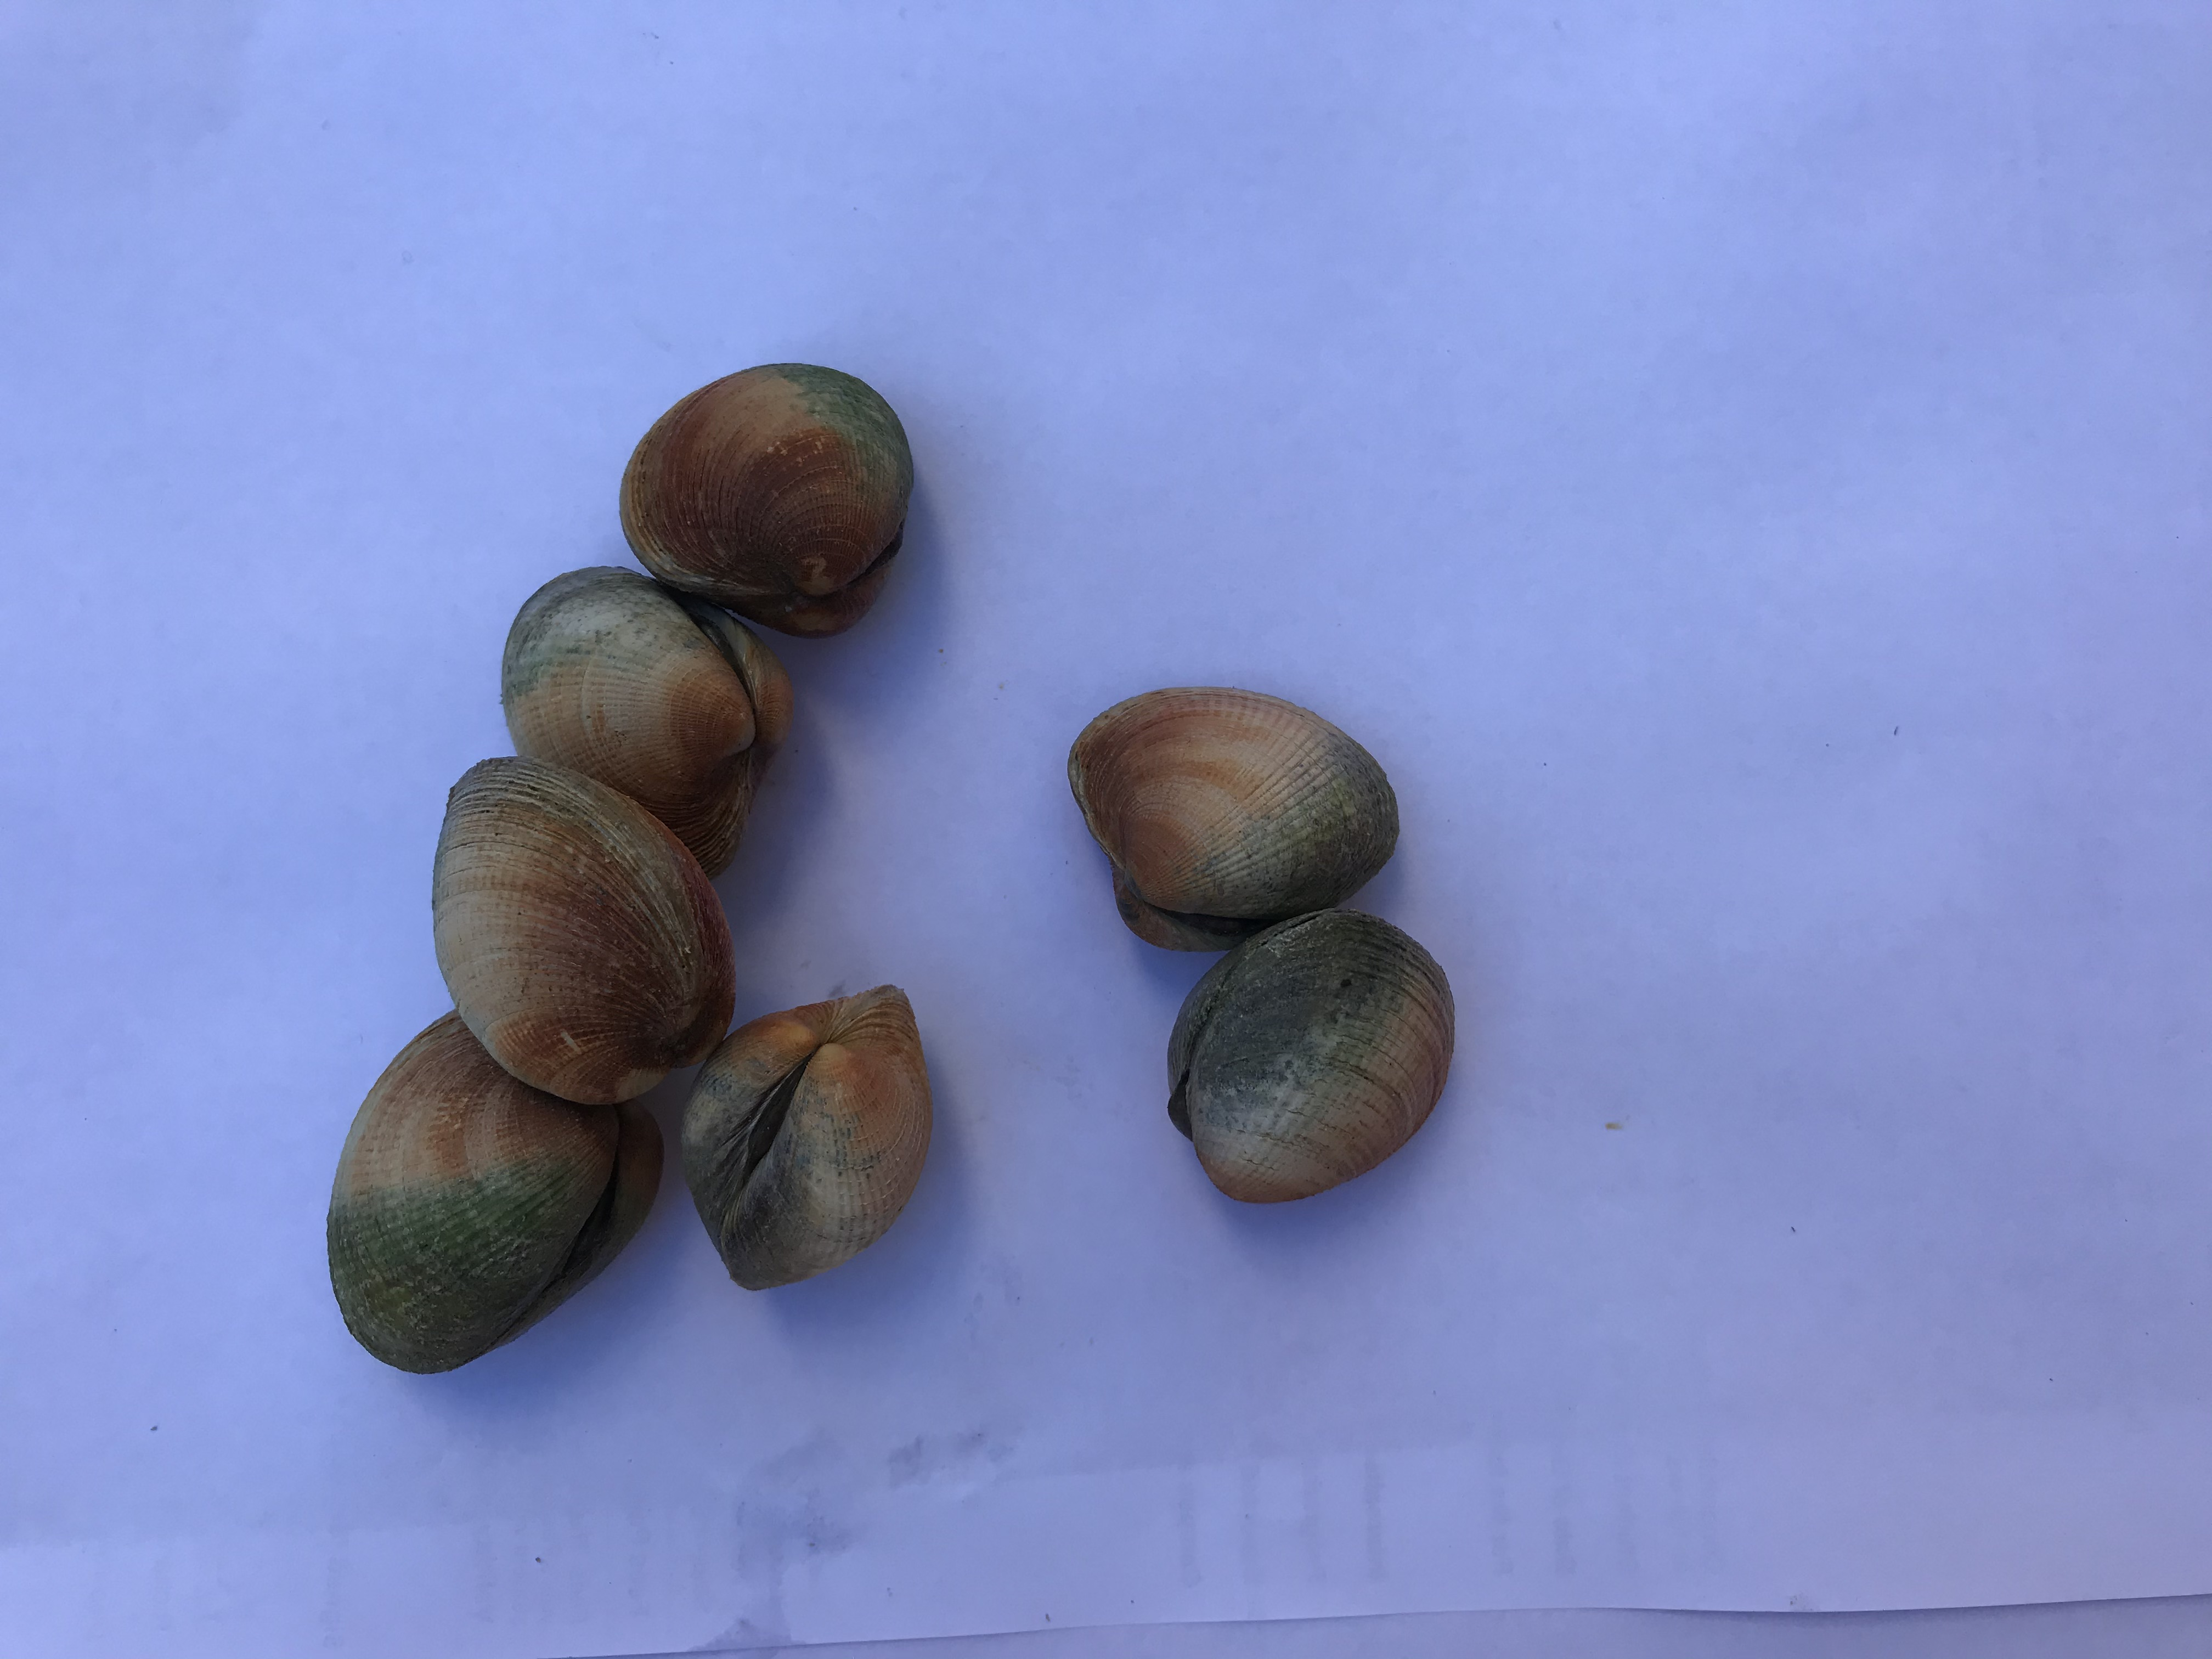cockle: (314, 1002, 679, 1380), (418, 746, 742, 1108), (500, 559, 805, 889), (1061, 674, 1406, 955), (1155, 903, 1472, 1208), (611, 359, 920, 647), (674, 978, 944, 1298)
